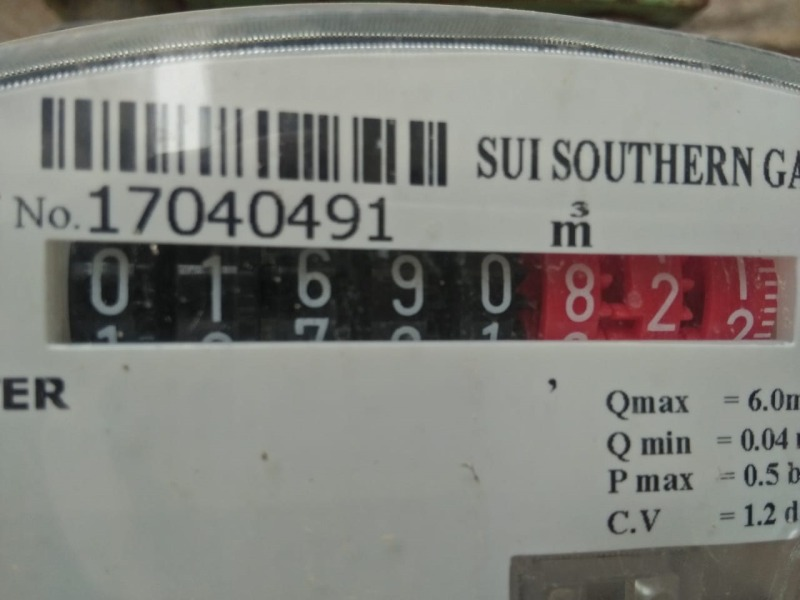ssgc: (36, 235, 796, 348)
